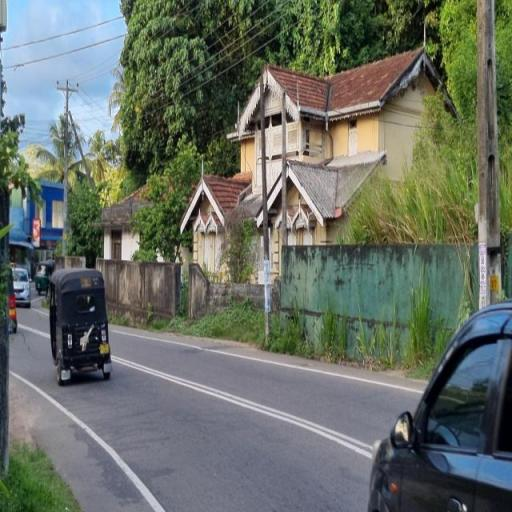double_white_line: (12, 362, 170, 510)
